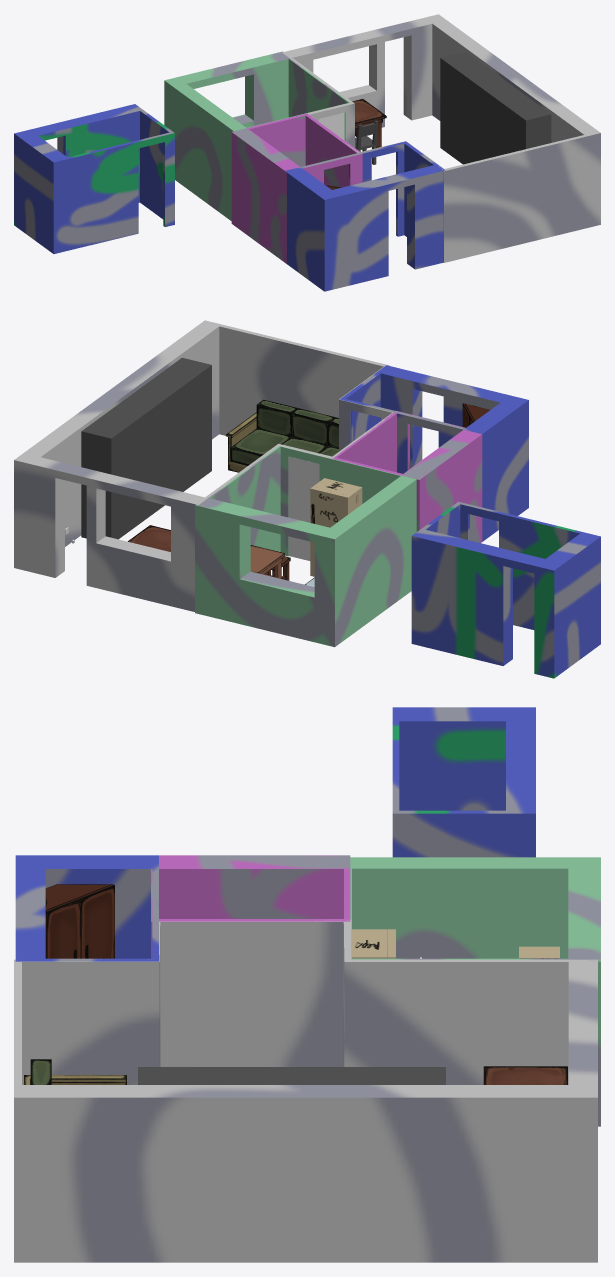
The model's file is flat rooms.fbx.
3 views of the same model, one above another, from view 1: azimuth 30°, elevation 25°; view 2: azimuth 150°, elevation 25°; view 3: azimuth 270°, elevation 25° (orthographic). The views are drawn at different scales.
Parts seen in each view (by area): view 1: room_livingroom.002, room_hallway.004, room_hallway.001, room_kitchen.002, room_watercloset.001, cupboard, table, chair, door; view 2: room_livingroom.002, room_kitchen.002, room_hallway.004, cupboard, room_hallway.001, room_watercloset.001, sofa_pillow, door, fridge_door, table_kitchen, table, sofa_main (+1 smaller); view 3: room_livingroom.002, room_kitchen.002, room_hallway.004, room_watercloset.001, room_hallway.001, cupboard, wardrobe_main, table, fridge_main, sofa_main.
Boxes of the visible parts, left/top/right/bottom form: room_livingroom.002: left=282, top=14, right=600, bottom=262; room_hallway.004: left=14, top=104, right=174, bottom=253; room_hallway.001: left=284, top=141, right=445, bottom=291; room_kitchen.002: left=164, top=51, right=349, bottom=220; room_watercloset.001: left=231, top=113, right=362, bottom=263; cupboard: left=440, top=51, right=551, bottom=164; table: left=352, top=99, right=386, bottom=147; chair: left=355, top=120, right=378, bottom=164; door: left=319, top=113, right=344, bottom=139; room_livingroom.002: left=14, top=320, right=392, bottom=611; room_kitchen.002: left=195, top=446, right=416, bottom=647; room_hallway.004: left=411, top=501, right=600, bottom=678; cupboard: left=81, top=357, right=211, bottom=539; room_hallway.001: left=340, top=365, right=528, bottom=541; room_watercloset.001: left=331, top=410, right=482, bottom=542; sofa_pillow: left=230, top=399, right=338, bottom=465; door: left=288, top=456, right=319, bottom=560; fridge_door: left=310, top=486, right=350, bottom=576; table_kitchen: left=250, top=545, right=284, bottom=578; table: left=128, top=525, right=170, bottom=551; sofa_main: left=226, top=412, right=256, bottom=472; room_livingroom.002: left=14, top=919, right=597, bottom=1262; room_kitchen.002: left=350, top=857, right=600, bottom=1126; room_hallway.004: left=392, top=707, right=535, bottom=857; room_watercloset.001: left=151, top=855, right=350, bottom=958; room_hallway.001: left=15, top=855, right=158, bottom=961; cupboard: left=138, top=1067, right=445, bottom=1084; wardrobe_main: left=45, top=884, right=114, bottom=958; table: left=483, top=1066, right=567, bottom=1084; fridge_main: left=352, top=929, right=387, bottom=958; sofa_main: left=24, top=1075, right=126, bottom=1084.
Size of the model in its own units: 17.64 by 3.59 by 11.28.
